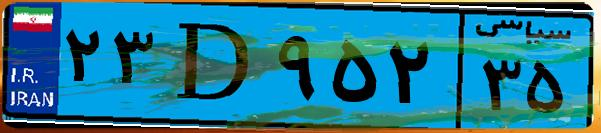2: (385, 28, 445, 110), (57, 26, 110, 100)
3: (475, 38, 525, 113), (110, 28, 158, 98)
5: (330, 28, 385, 110), (525, 38, 570, 115)
9: (270, 28, 330, 110)
D: (158, 12, 270, 120)
